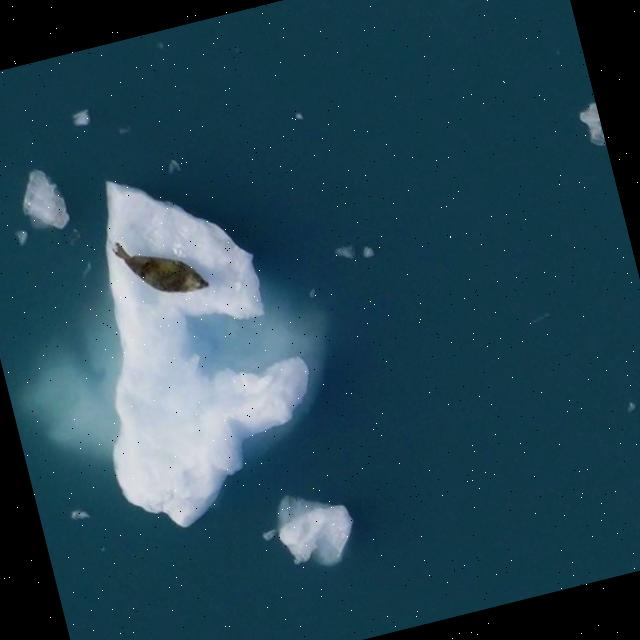seal: (115, 243, 210, 294)
